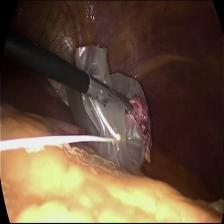Grasper: (84, 74, 134, 116)
Specimen Bag: (63, 40, 155, 174)
